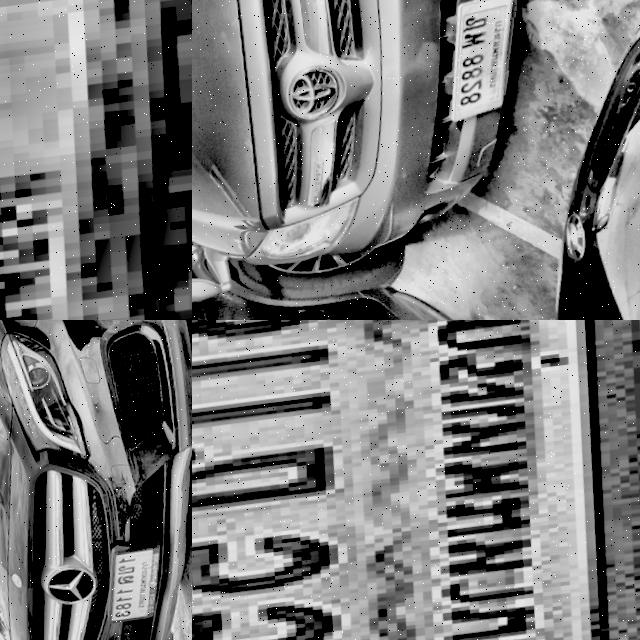license-plate: (192, 320, 640, 640), (0, 0, 192, 320), (441, 0, 535, 123), (106, 539, 182, 627)
